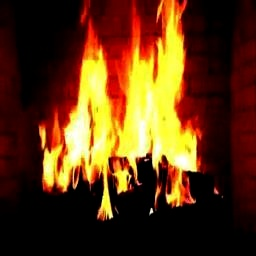fire: (35, 0, 224, 223)
